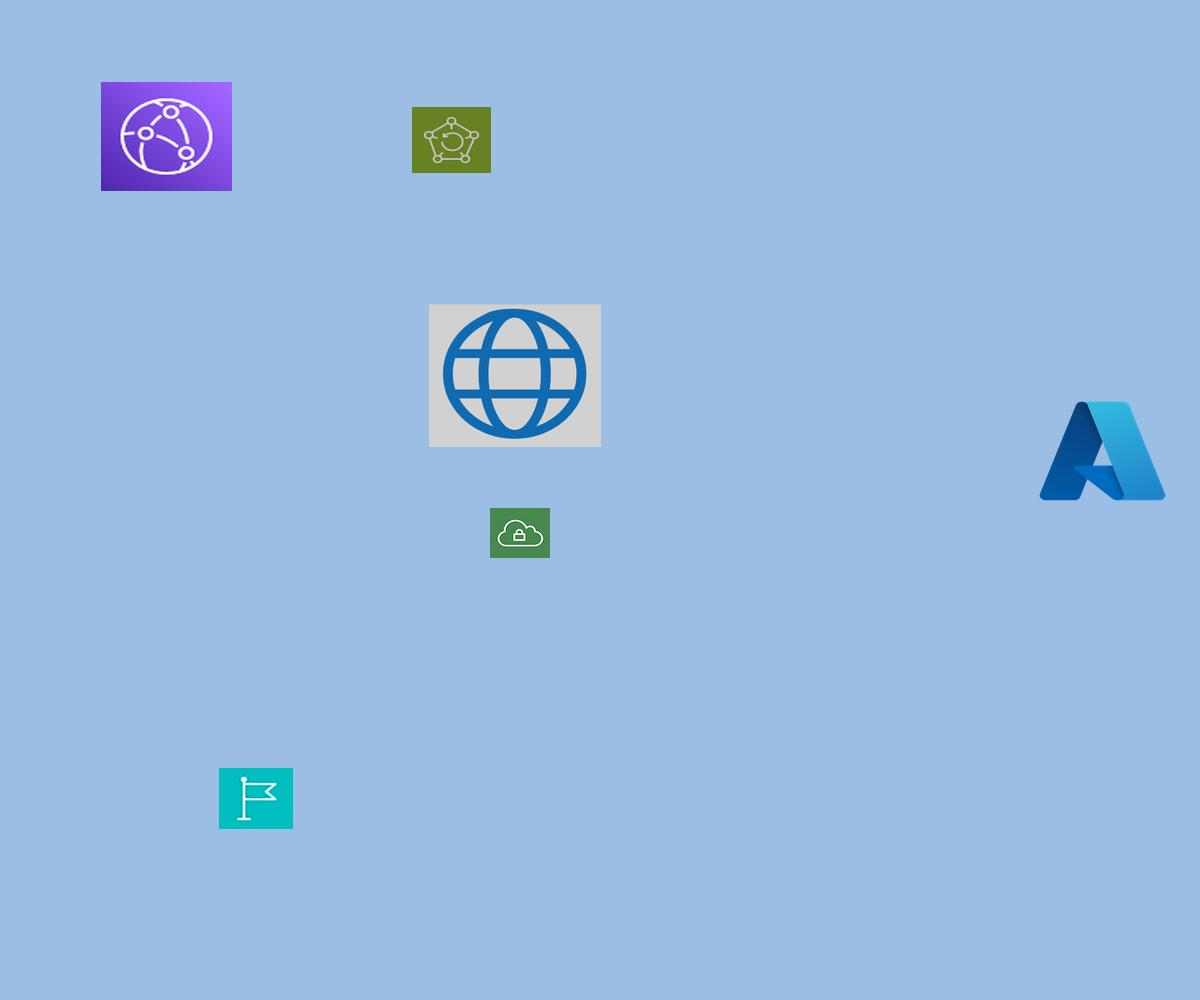AWS-Backup: (412, 107, 491, 173)
AWS-CloudFront: (101, 82, 232, 191)
AWS-Private_vpc: (490, 508, 550, 558)
AWS-Region: (219, 768, 293, 829)
Azure_http: (429, 304, 601, 447)
Azure_services: (1034, 394, 1171, 508)
